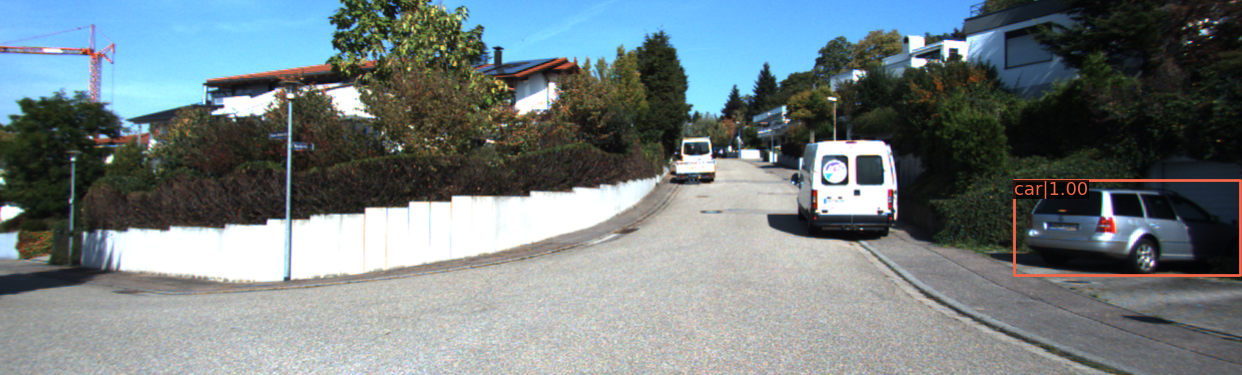car: (1022, 186, 1242, 277)
